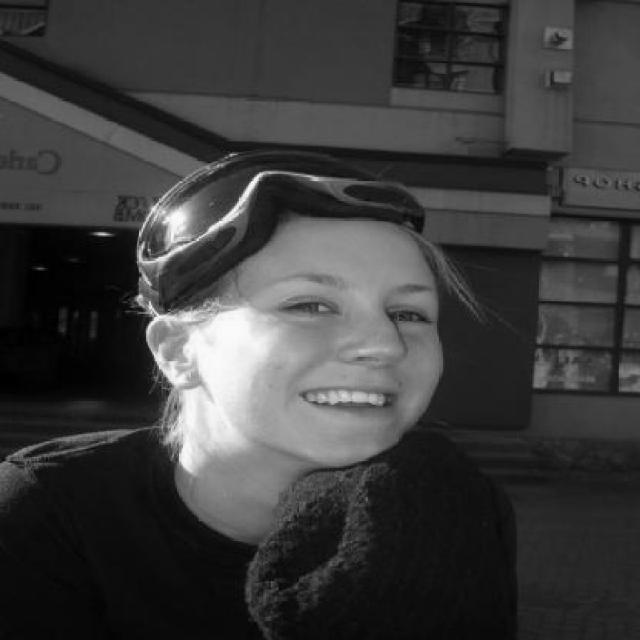face_nomask: (189, 279, 463, 456)
head_nohelmet: (125, 142, 442, 260)
person: (0, 149, 520, 640)
